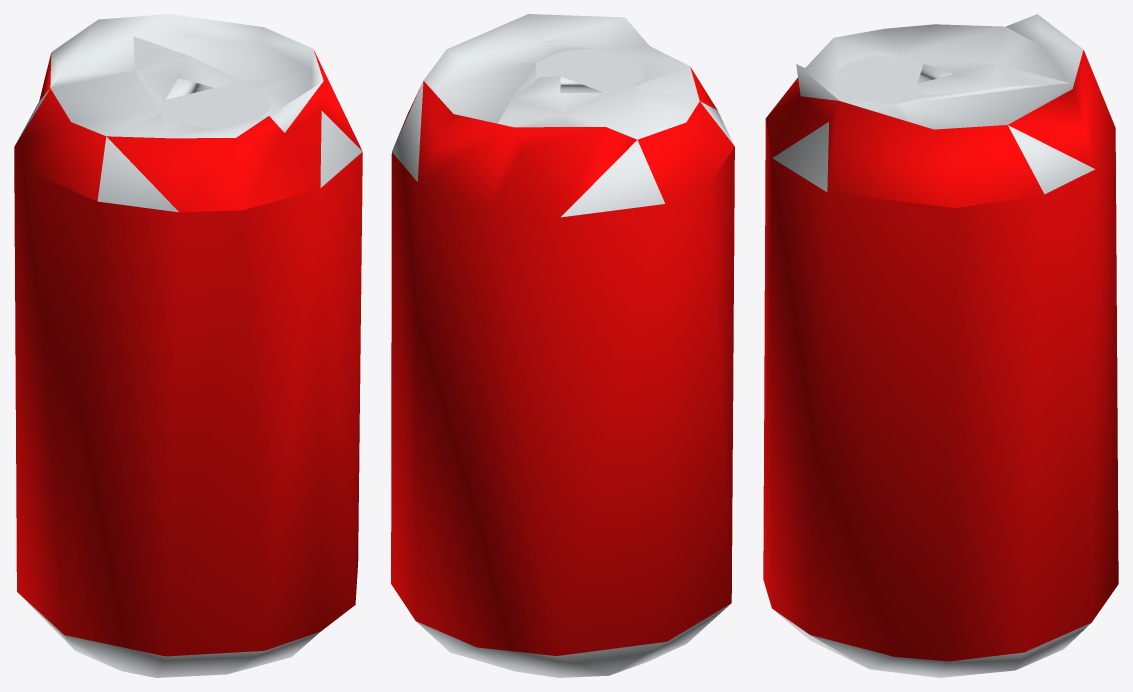
File: soda.fbx
3 views of the same model, side by side, from view 1: azimuth 30°, elevation 25°; view 2: azimuth 150°, elevation 25°; view 3: azimuth 270°, elevation 25° (orthographic). The views are drawn at different scales.
Visible parts, largest first — view 1: soda; view 2: soda; view 3: soda.
Part boxes in pixels (x1,y1,x2,y2): soda: (14, 14, 362, 677); soda: (391, 14, 734, 677); soda: (763, 14, 1118, 677).
Size of the model in its own units: 6.79 by 11.93 by 6.81.
